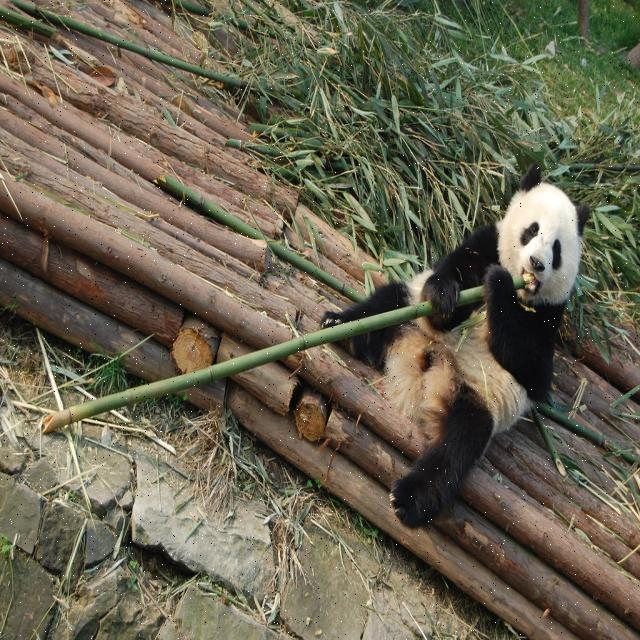panda: (325, 170, 584, 517)
